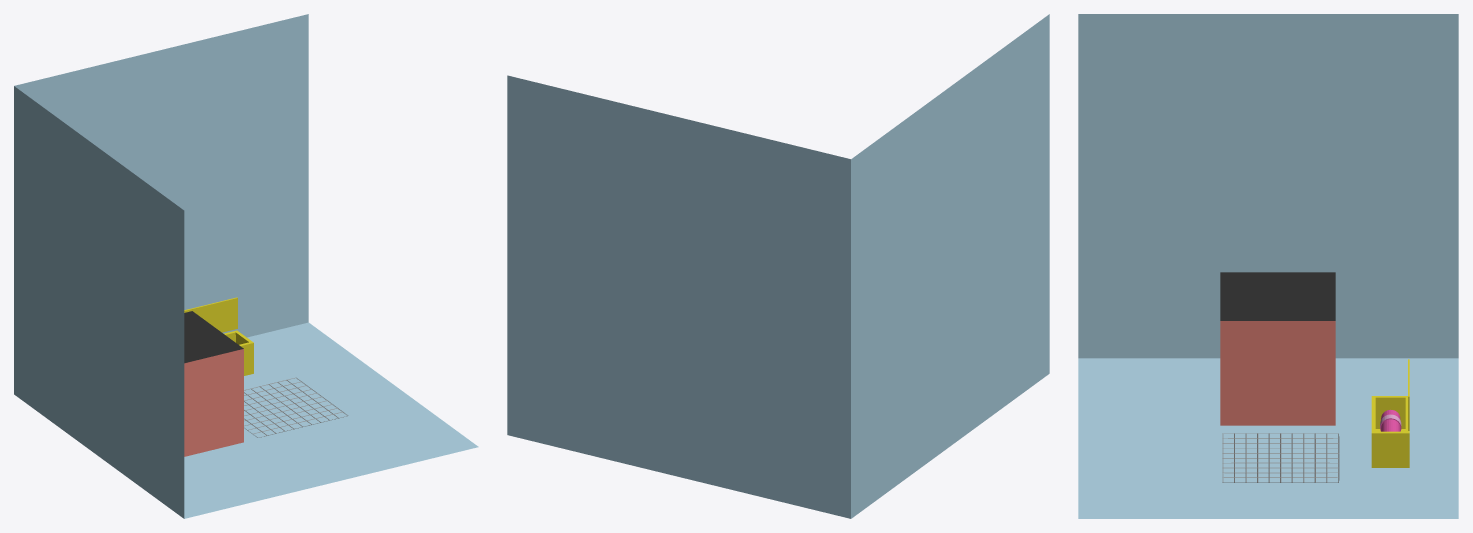
Rendered from blender-test-world-transformed.glb.
3 views of the same model, side by side, from view 1: azimuth 30°, elevation 25°; view 2: azimuth 150°, elevation 25°; view 3: azimuth 270°, elevation 25° (orthographic). The views are drawn at different scales.
Parts seen in each view (by area): view 1: backdrop, scaleBox, floorGrid, boxLid, boxBase; view 2: backdrop; view 3: backdrop, scaleBox, floorGrid, boxBase.
Boxes of the visible parts, box(x1,y1,x2,y2) form: backdrop: box(14, 14, 478, 518); scaleBox: box(184, 311, 243, 456); floorGrid: box(244, 377, 348, 437); boxLid: box(184, 297, 237, 332); boxBase: box(224, 330, 253, 375); backdrop: box(507, 14, 1049, 518); backdrop: box(1078, 14, 1458, 518); scaleBox: box(1220, 272, 1335, 425); floorGrid: box(1222, 433, 1339, 482); boxBase: box(1371, 396, 1409, 467).
Bounding box in the file's own units: 6.59 × 6.61 × 6.59.
